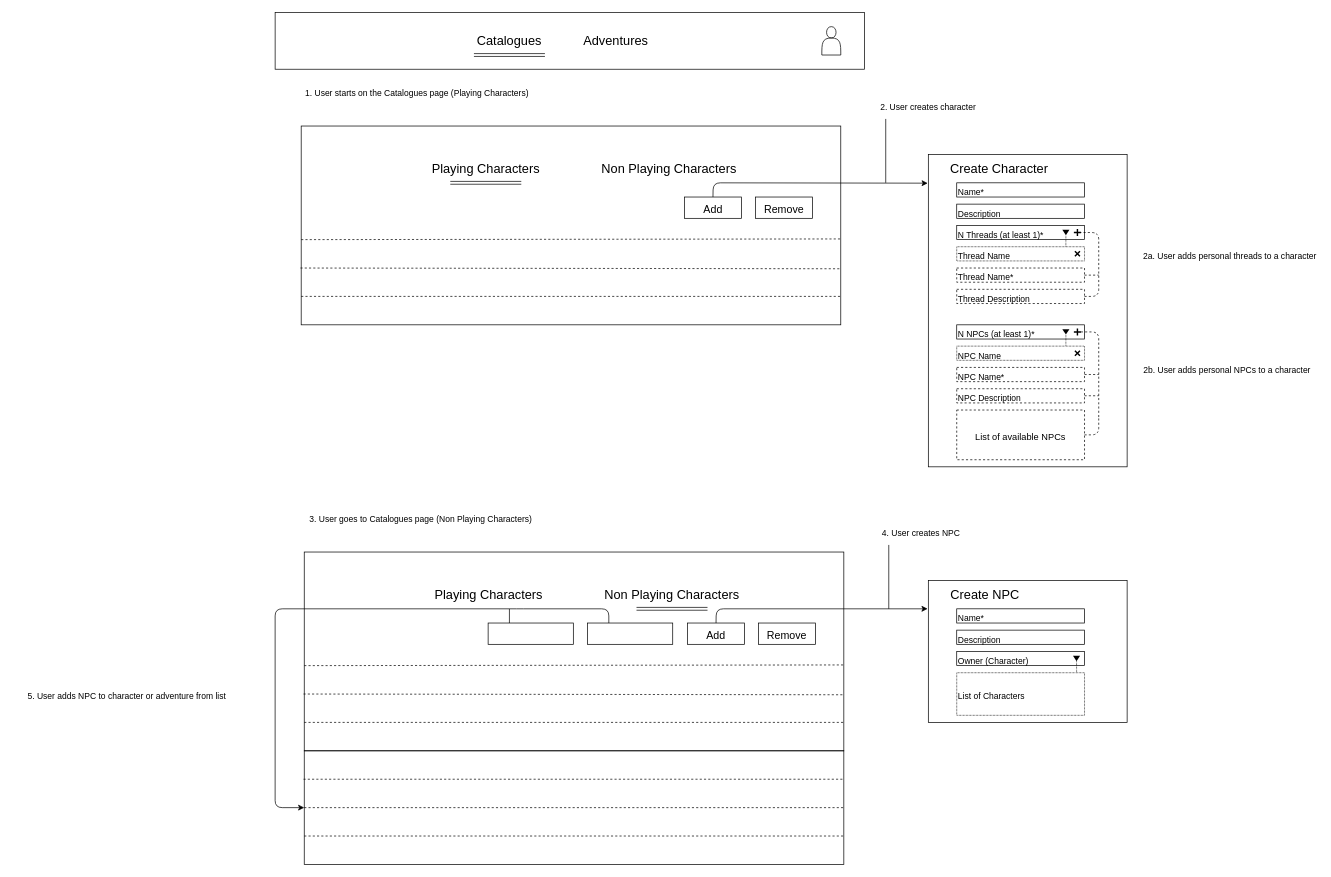
The diagram is 1331 pixels wide and 877 high, and some of its shapes have lost their labels. The centre of each missing label's shape, as x and y in pixels:
Add to Adventure: (530,633)
Add to Character: (630,633)
